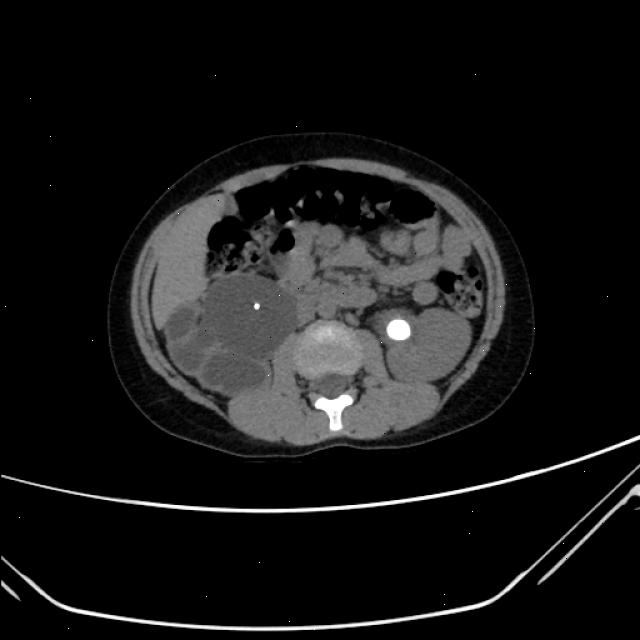kidneystone: (388, 319, 411, 340), (241, 301, 269, 311)
